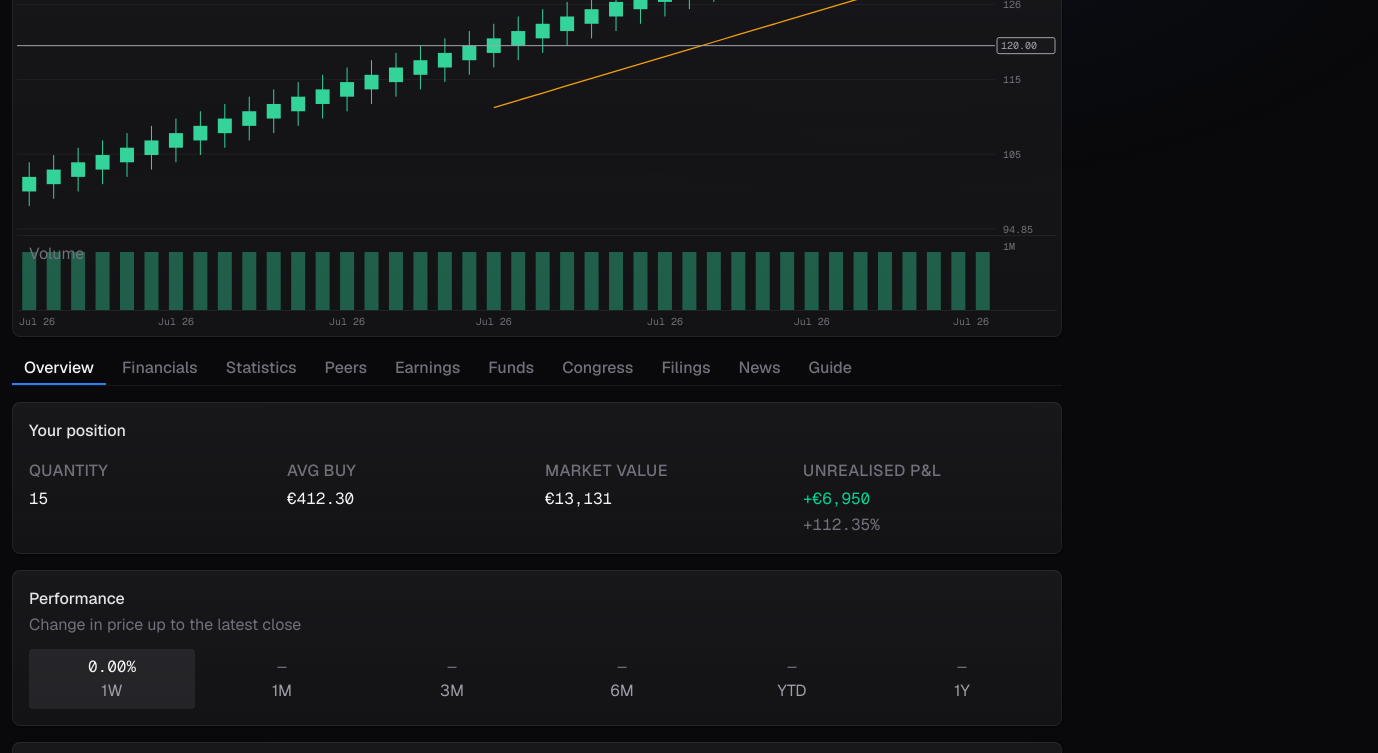
Scenario: Research › shows the news feed on the News tab
This screenshot has width=1378, height=753.
(page scrolled)
What coordinates should you click on to do the following:
click the tab "News"
I would click on:
 (760, 369)
Its box is top-left (727, 353), bottom-right (793, 385).
(page scrolled)
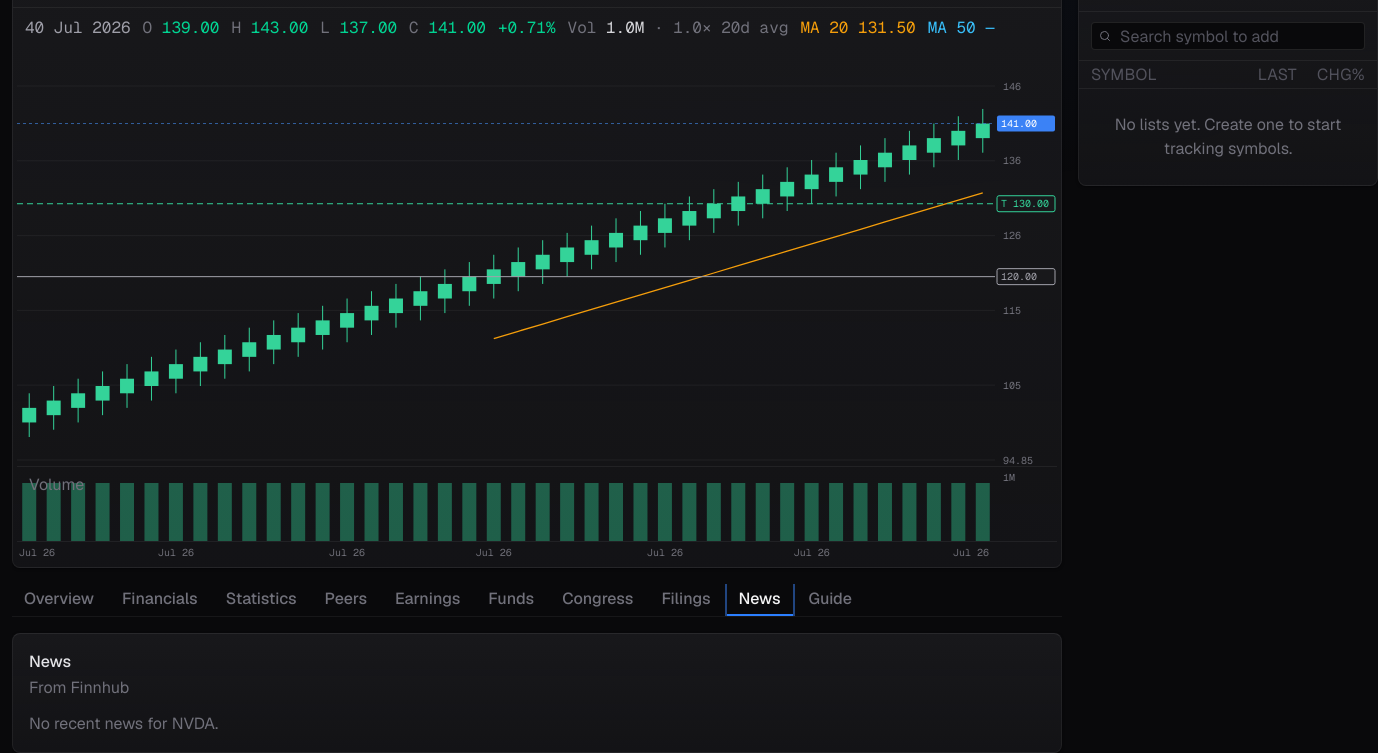
Result: the text "No recent news for NVDA." is shown at top-left (29, 713), bottom-right (218, 734)
